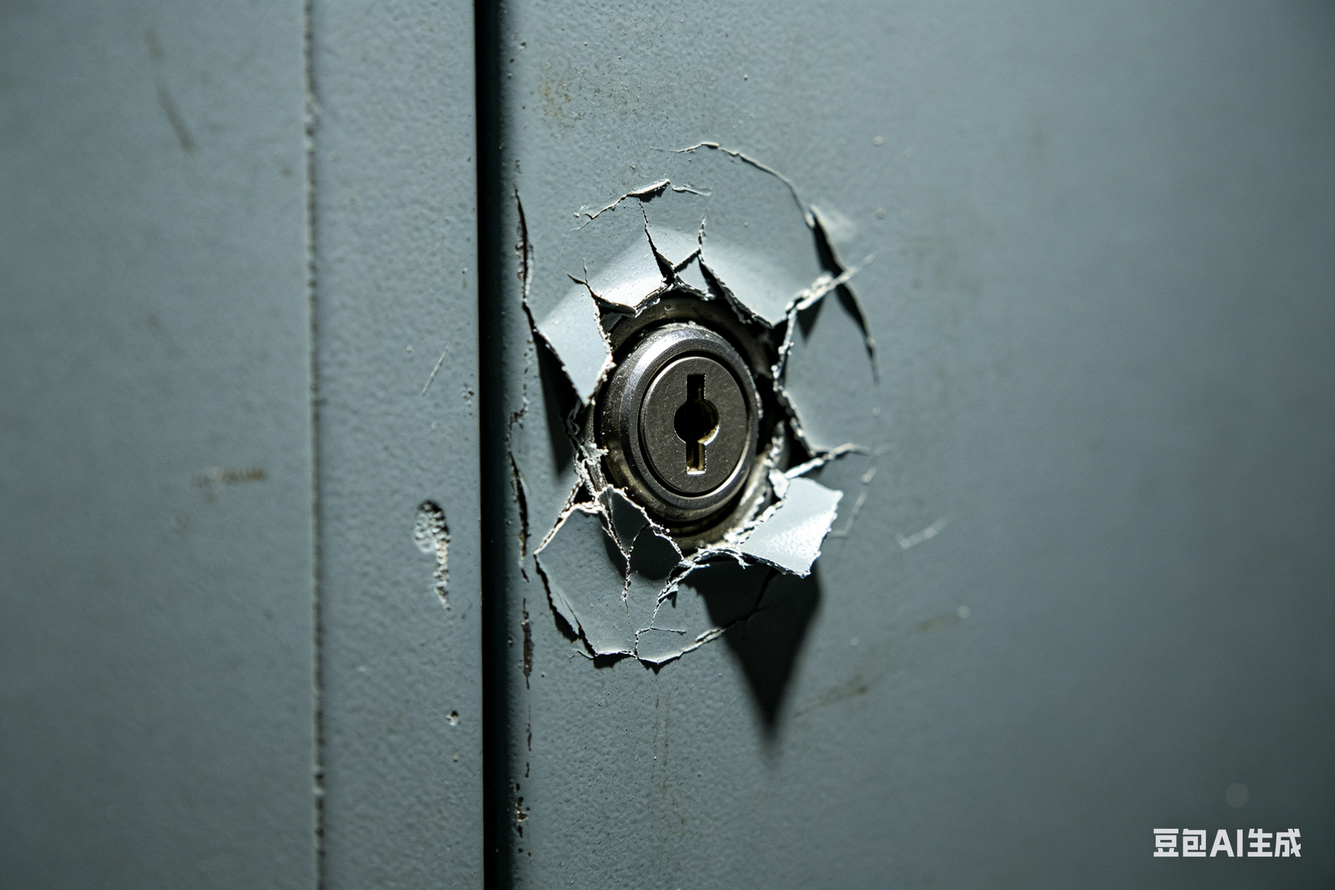BadLock: (511, 195, 846, 584)
